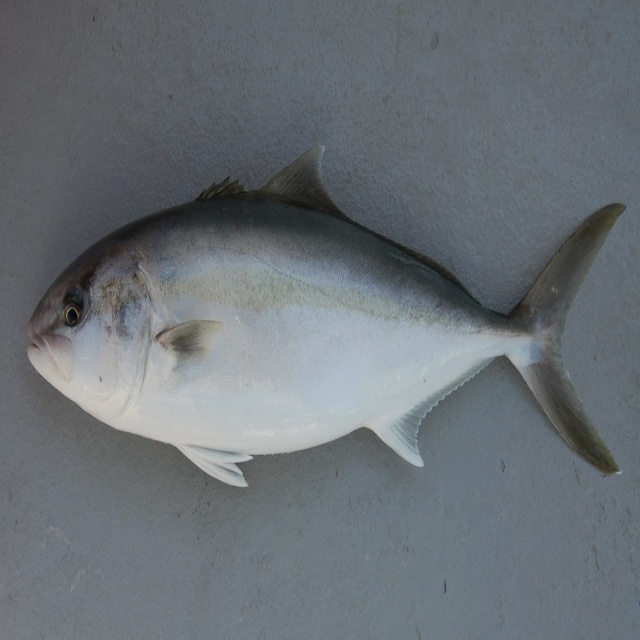Fish: (28, 135, 624, 480)
